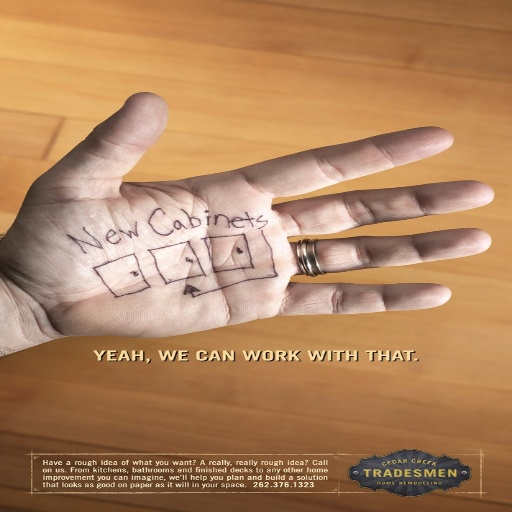hand: (0, 89, 491, 341)
